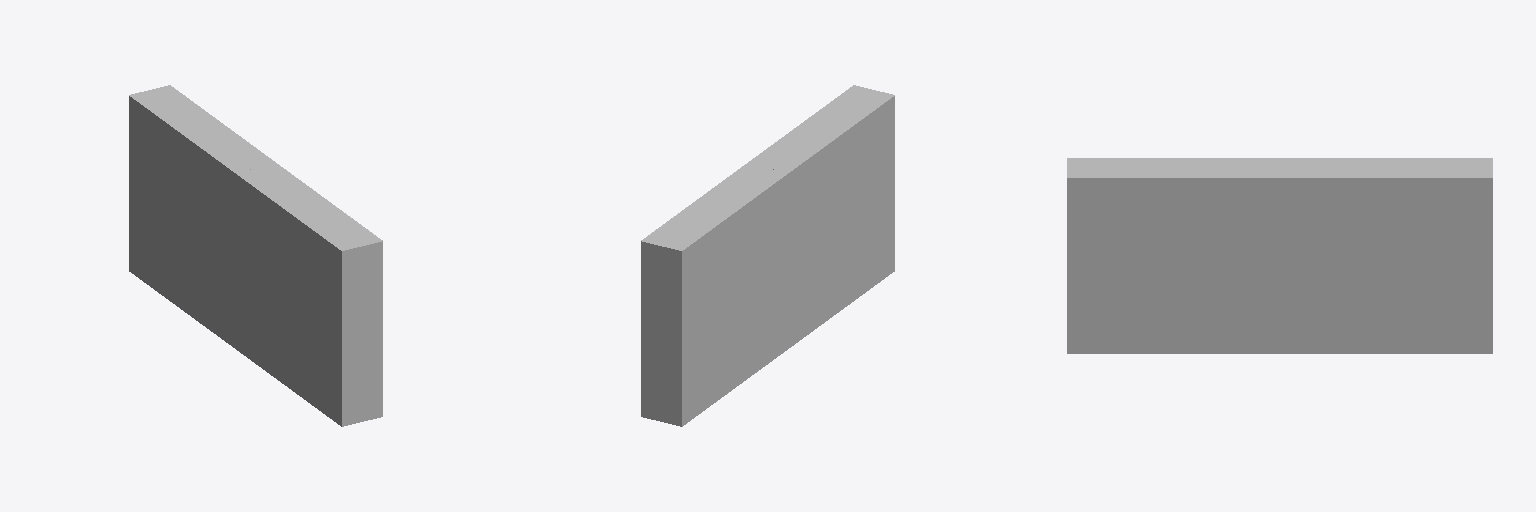
File: floor_multiMesh.obj
3 renders of one model, left to right at view 1: azimuth 30°, elevation 25°; view 2: azimuth 150°, elevation 25°; view 3: azimuth 270°, elevation 25°, orthographic.
Visible parts, largest first — view 1: Cube; view 2: Cube; view 3: Cube.
Boxes of the visible parts, x1=… form: Cube: x1=129, y1=85, x2=382, y2=426; Cube: x1=641, y1=85, x2=894, y2=426; Cube: x1=1067, y1=158, x2=1492, y2=353.
Size of the model in its own units: 2 by 8.07 by 17.75.